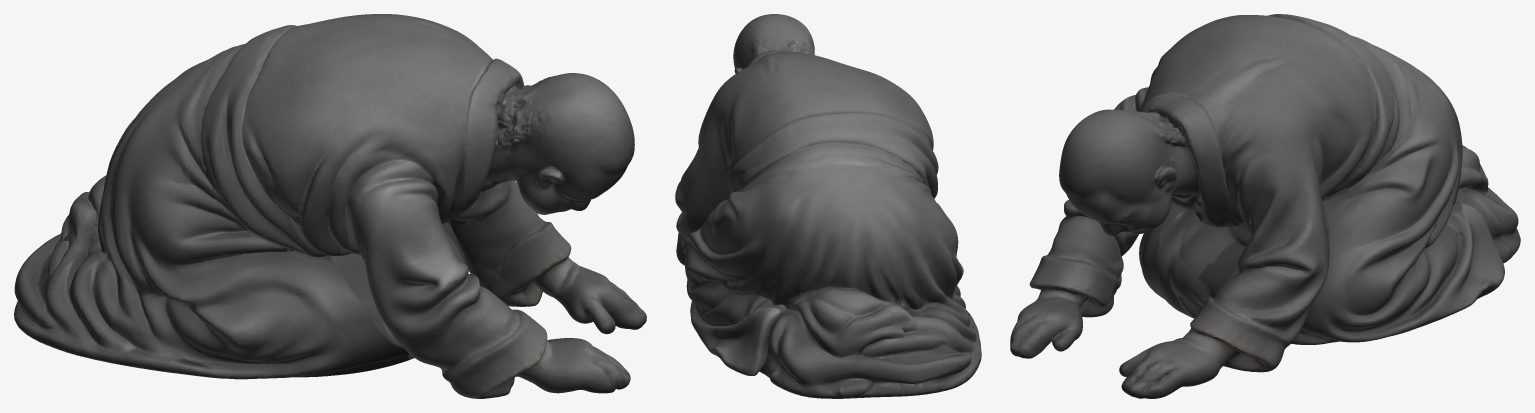
File: v37-kneeling.glb
3 views of the same model, side by side, from view 1: azimuth 30°, elevation 25°; view 2: azimuth 150°, elevation 25°; view 3: azimuth 270°, elevation 25° (orthographic). The views are drawn at different scales.
Visible parts, largest first — view 1: geometry_0; view 2: geometry_0; view 3: geometry_0.
Part boxes in pixels (<box>): geometry_0: <box>14,14,646,398</box>; geometry_0: <box>675,14,981,398</box>; geometry_0: <box>1010,14,1520,398</box>.
Bounding box in the file's own units: 0.45 × 0.2623 × 0.45.
1 material, 1 textured.
